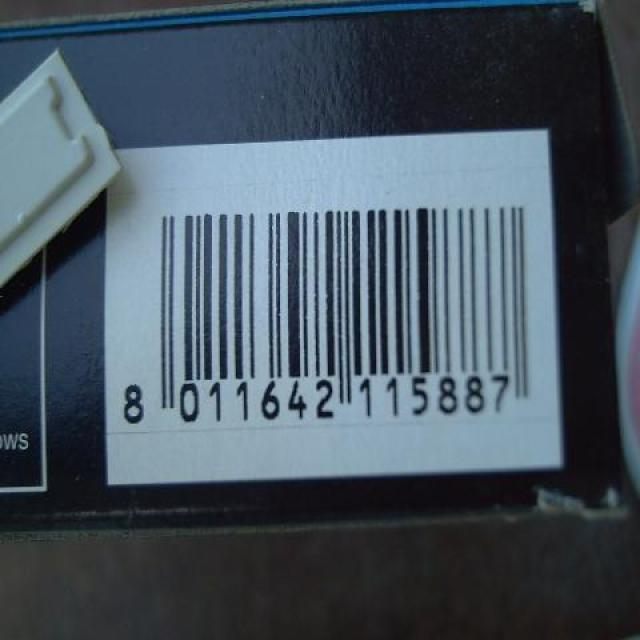Barcode: (100, 131, 567, 488)
